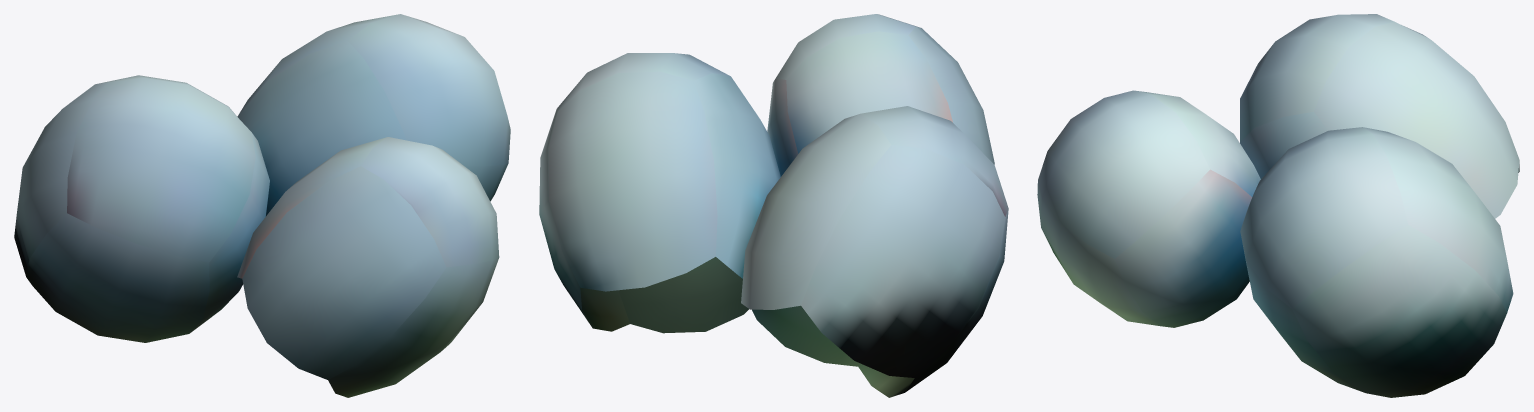
The model's file is eggs.glb.
3 views of the same model, side by side, from view 1: azimuth 30°, elevation 25°; view 2: azimuth 150°, elevation 25°; view 3: azimuth 270°, elevation 25° (orthographic). The views are drawn at different scales.
Parts seen in each view (by area): view 1: Egg_3_Fourth_Hover_Raycaster, Egg_1_Fourth_Hover_Raycaster, Egg_2_Fourth_Hover_Raycaster; view 2: Egg_3_Fourth_Hover_Raycaster, Egg_2_Fourth_Hover_Raycaster, Egg_1_Fourth_Hover_Raycaster; view 3: Egg_2_Fourth_Hover_Raycaster, Egg_1_Fourth_Hover_Raycaster, Egg_3_Fourth_Hover_Raycaster.
Boxes of the visible parts, x1,y1,x2,y2 form: Egg_3_Fourth_Hover_Raycaster: (14, 75, 269, 342); Egg_1_Fourth_Hover_Raycaster: (237, 137, 499, 397); Egg_2_Fourth_Hover_Raycaster: (237, 14, 510, 215); Egg_3_Fourth_Hover_Raycaster: (741, 106, 1008, 397); Egg_2_Fourth_Hover_Raycaster: (539, 53, 780, 333); Egg_1_Fourth_Hover_Raycaster: (767, 14, 994, 176); Egg_2_Fourth_Hover_Raycaster: (1240, 127, 1513, 397); Egg_1_Fourth_Hover_Raycaster: (1037, 90, 1260, 327); Egg_3_Fourth_Hover_Raycaster: (1240, 14, 1519, 218).
Bounding box in the file's own units: 0.2835 × 0.1603 × 0.27.
1 material, 1 textured.
